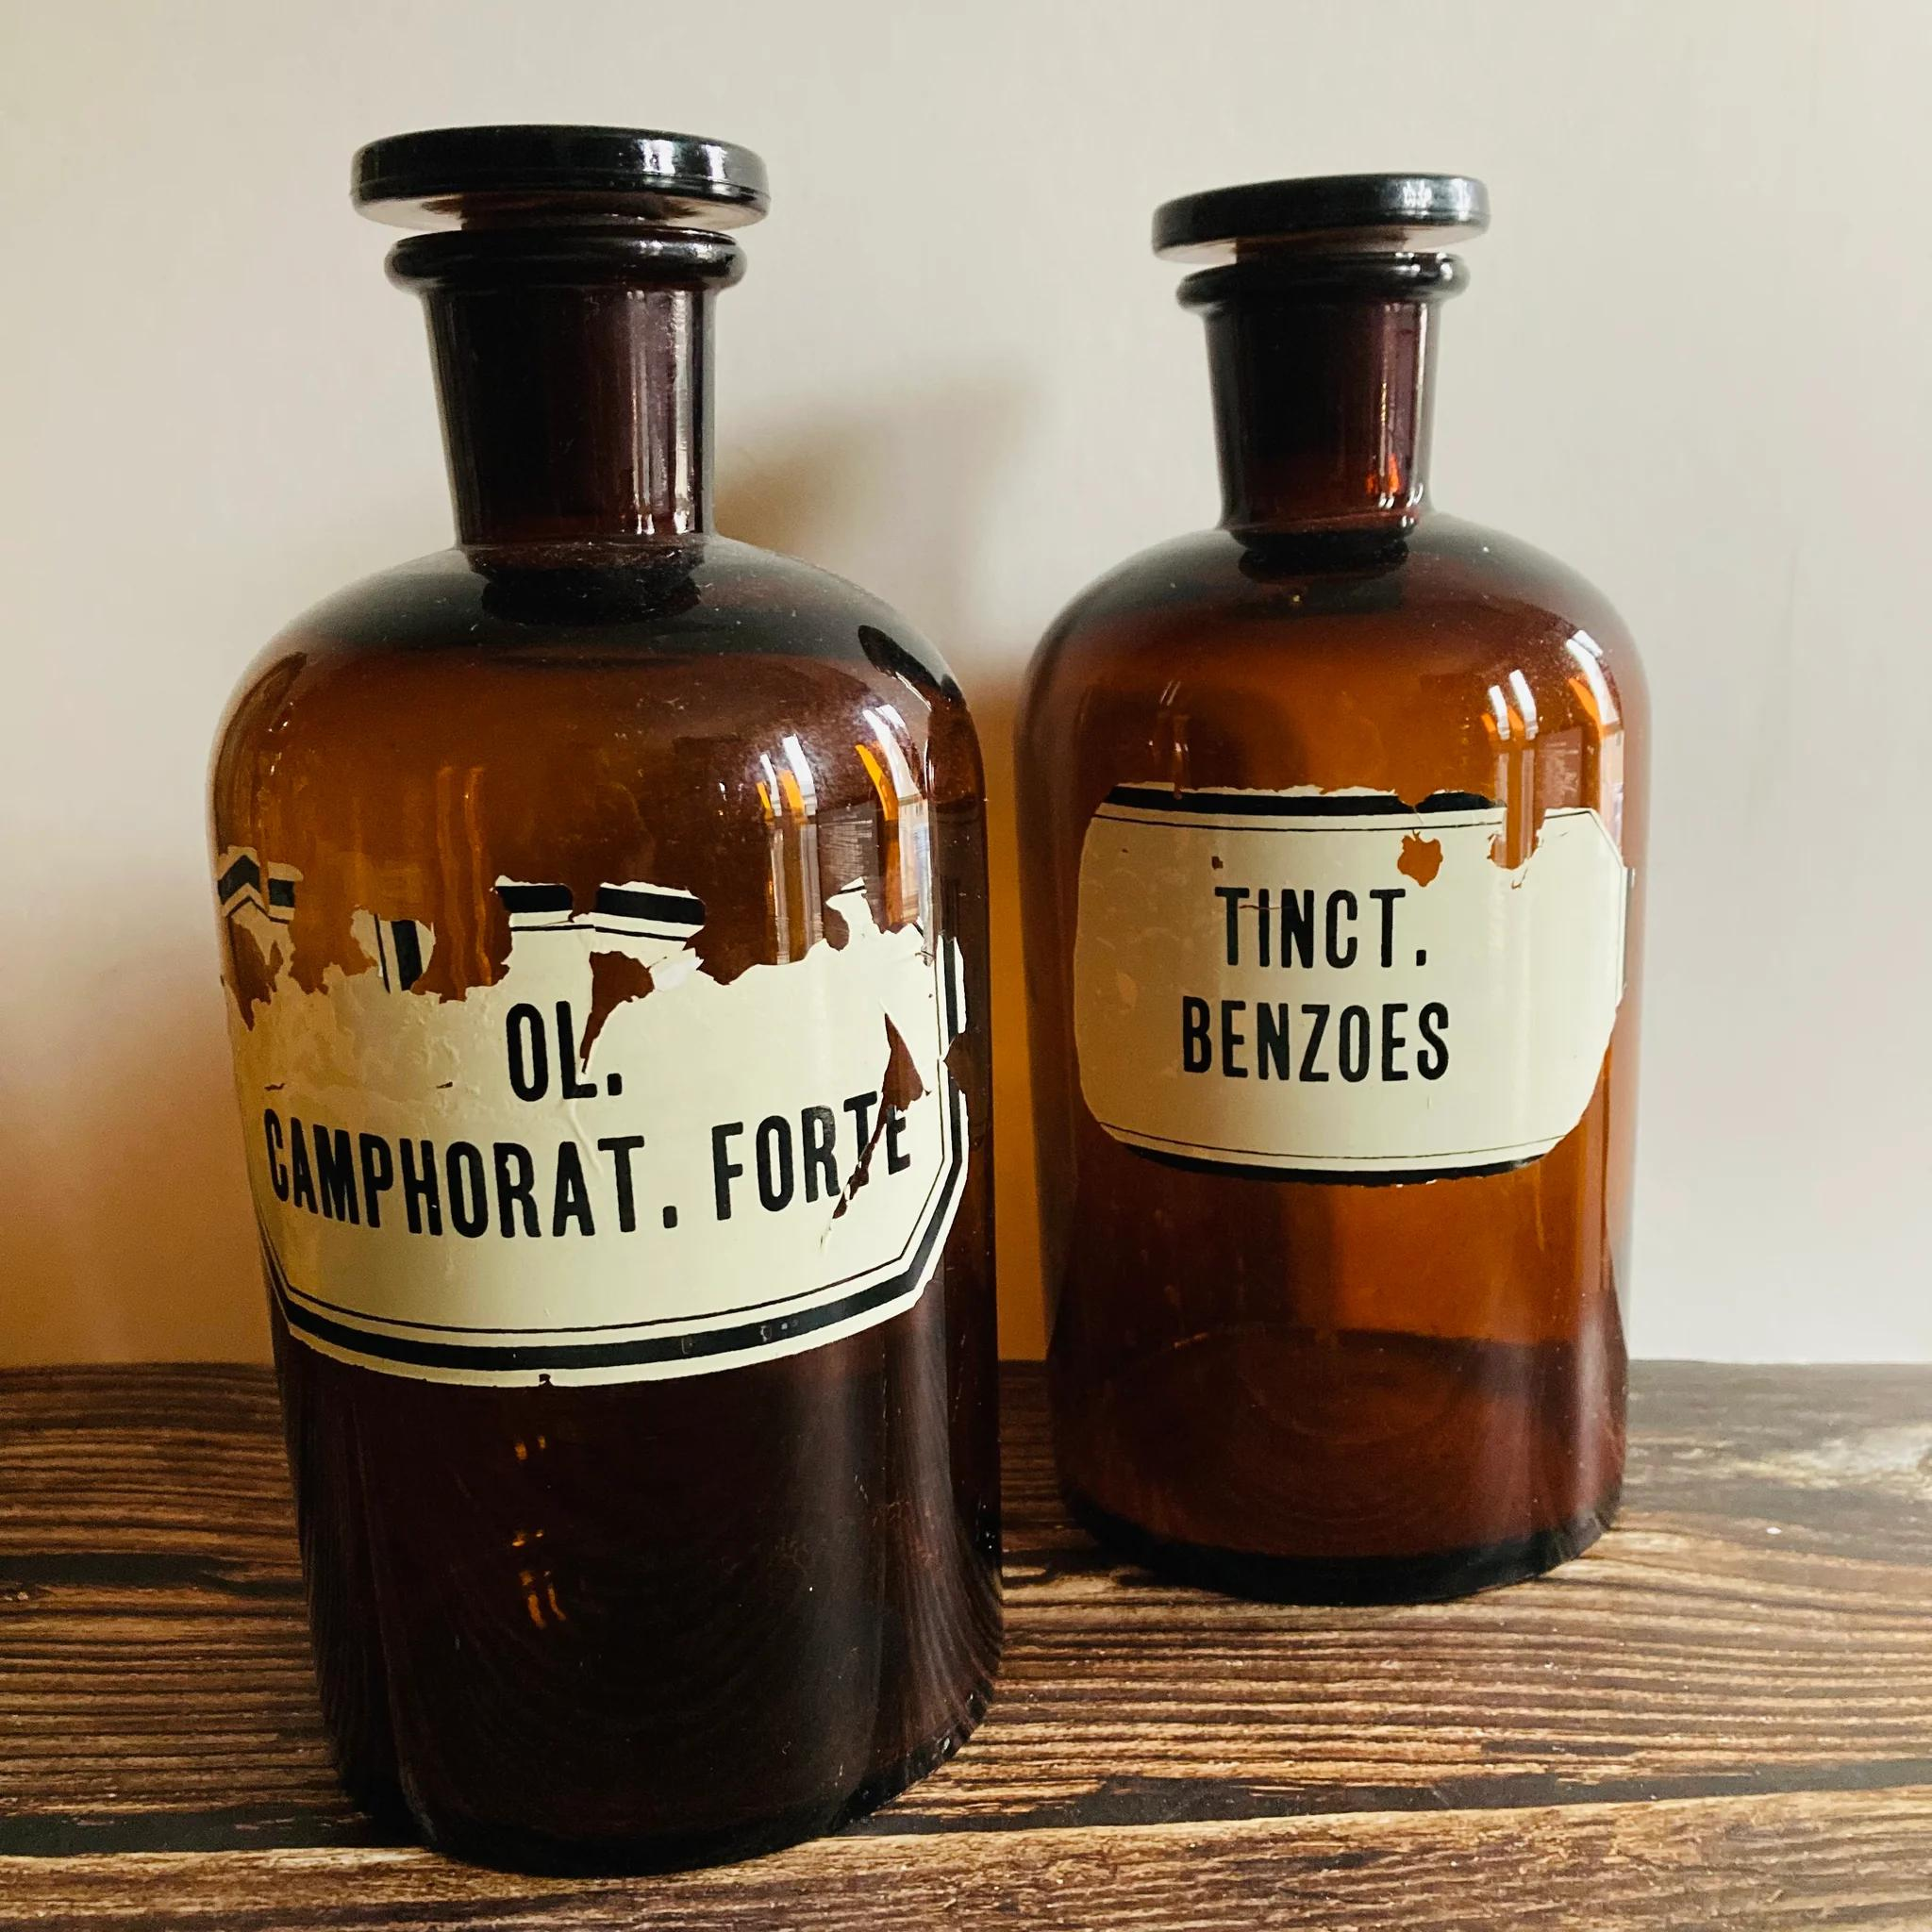glass: (211, 120, 1003, 1872), (1019, 170, 1658, 1594)
